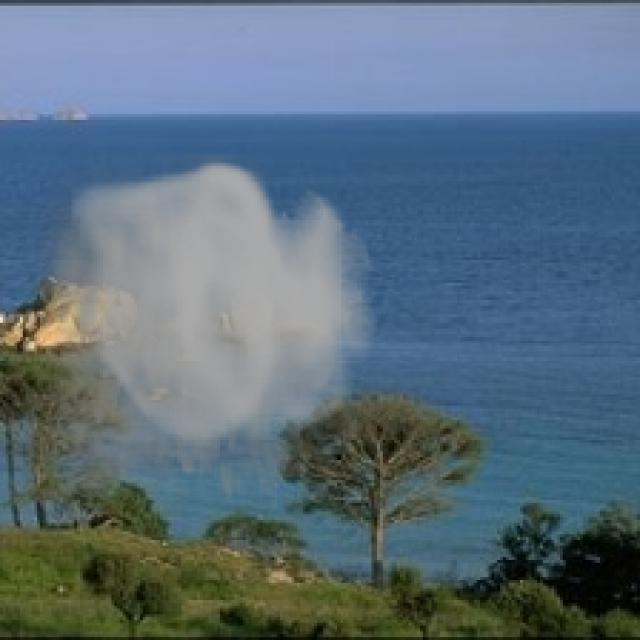smoke: (26, 154, 377, 546)
